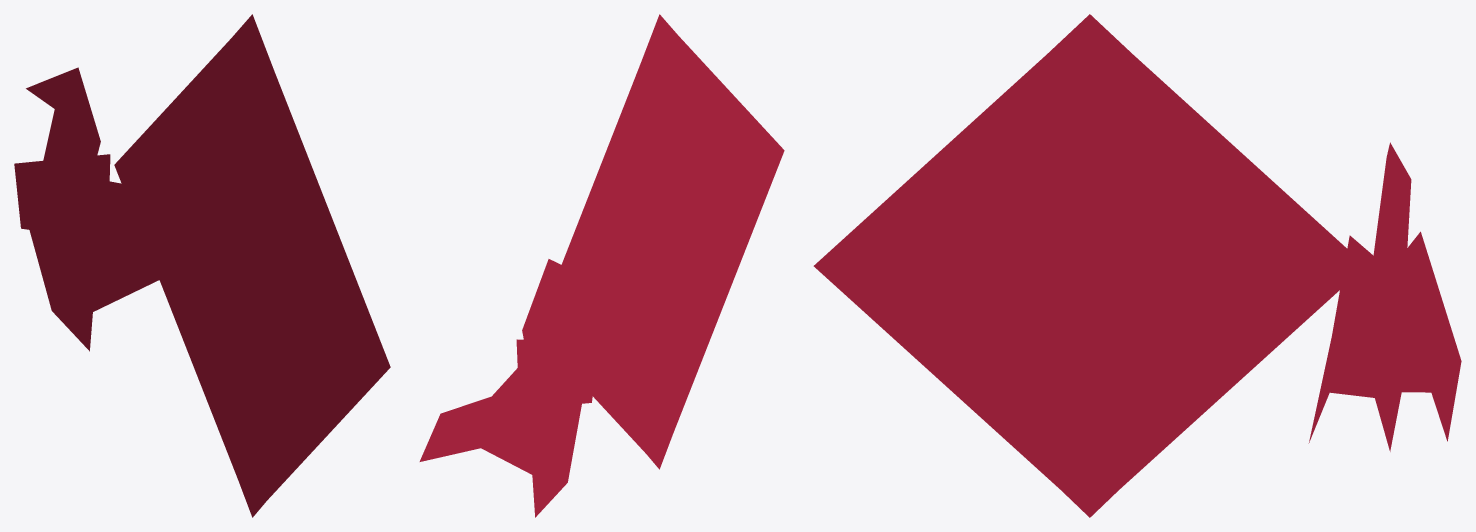
Rendered from pliage oiseau.fbx.
3 views of the same model, side by side, from view 1: azimuth 30°, elevation 25°; view 2: azimuth 150°, elevation 25°; view 3: azimuth 270°, elevation 25° (orthographic). The views are drawn at different scales.
Visible parts, largest first — view 1: piaffe, Plane; view 2: piaffe, Plane; view 3: piaffe, Plane.
Part boxes in pixels (bbox=[...]): piaffe: bbox=[114, 14, 390, 517]; Plane: bbox=[14, 67, 159, 351]; piaffe: bbox=[561, 14, 784, 469]; Plane: bbox=[419, 259, 599, 517]; piaffe: bbox=[813, 14, 1365, 517]; Plane: bbox=[1308, 142, 1461, 451].
Bounding box in the file's own units: 299 × 845 × 985.
